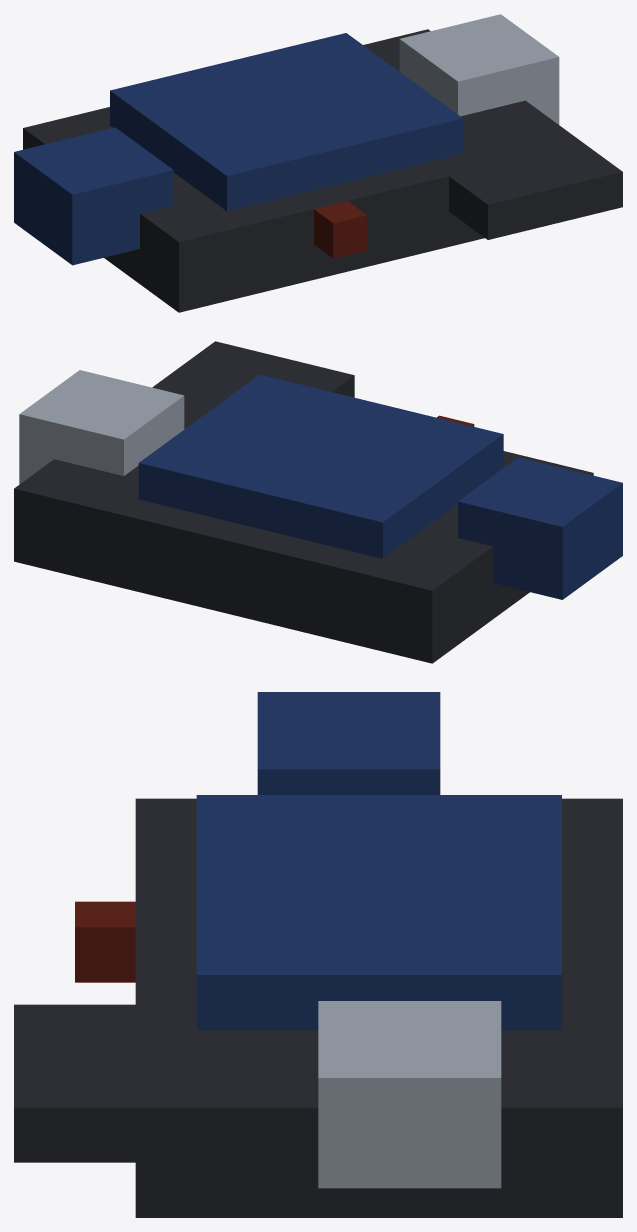
The model's file is mech_light_scout_destroyed.glb.
3 renders of one model, top to bottom at view 1: azimuth 30°, elevation 25°; view 2: azimuth 150°, elevation 25°; view 3: azimuth 270°, elevation 25°, orthographic. The views are drawn at different scales.
Visible parts, largest first — view 1: Wreck mesh, Ember mesh; view 2: Wreck mesh; view 3: Wreck mesh, Ember mesh.
Part boxes in pixels (left/top/right/bottom): Wreck mesh: left=14, top=14, right=622, bottom=312; Ember mesh: left=314, top=201, right=367, bottom=258; Wreck mesh: left=14, top=341, right=622, bottom=663; Wreck mesh: left=14, top=692, right=622, bottom=1217; Ember mesh: left=75, top=901, right=135, bottom=982.
Bounding box in the file's own units: 15 × 3 × 10.
1 material, 1 textured.
